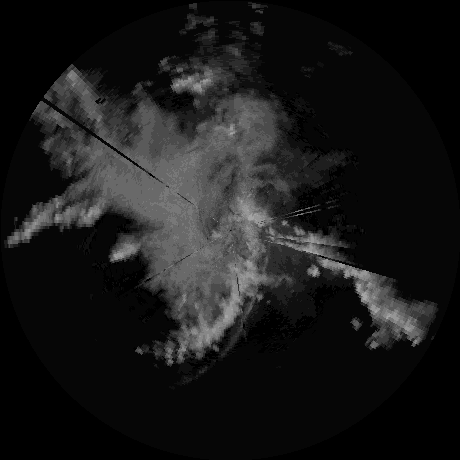frontgust: (190, 288, 260, 380), (260, 241, 270, 276)
